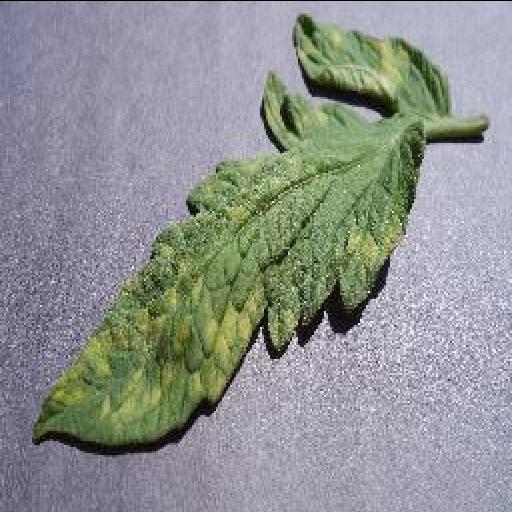disease_tomato: (28, 12, 454, 446)
